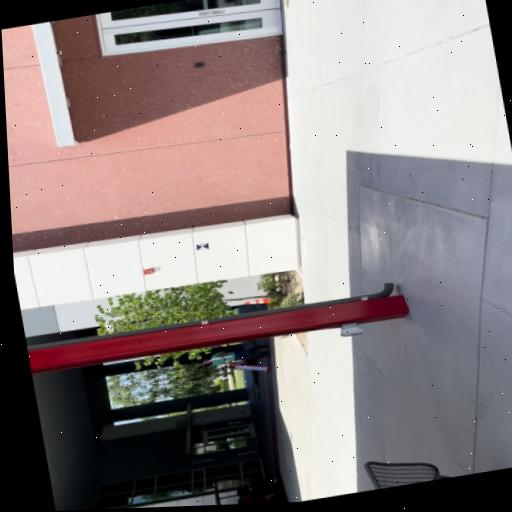target6: (196, 242, 210, 251)
